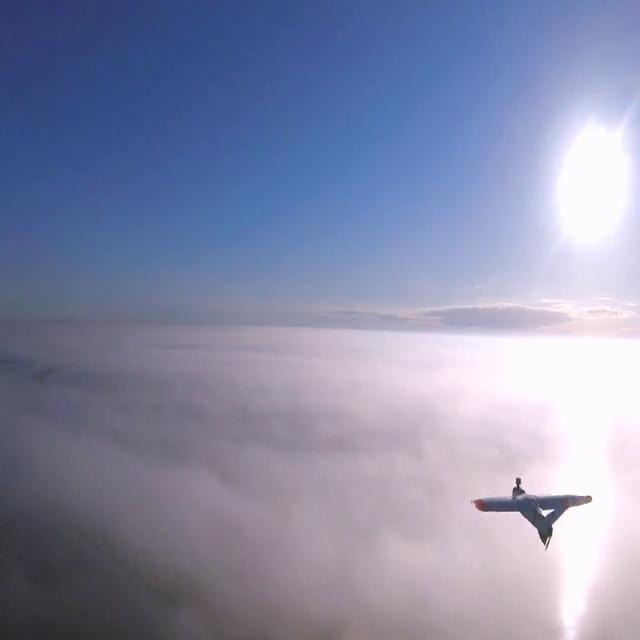iha: (503, 511, 563, 514)
